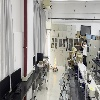fire: (53, 54, 56, 69)
